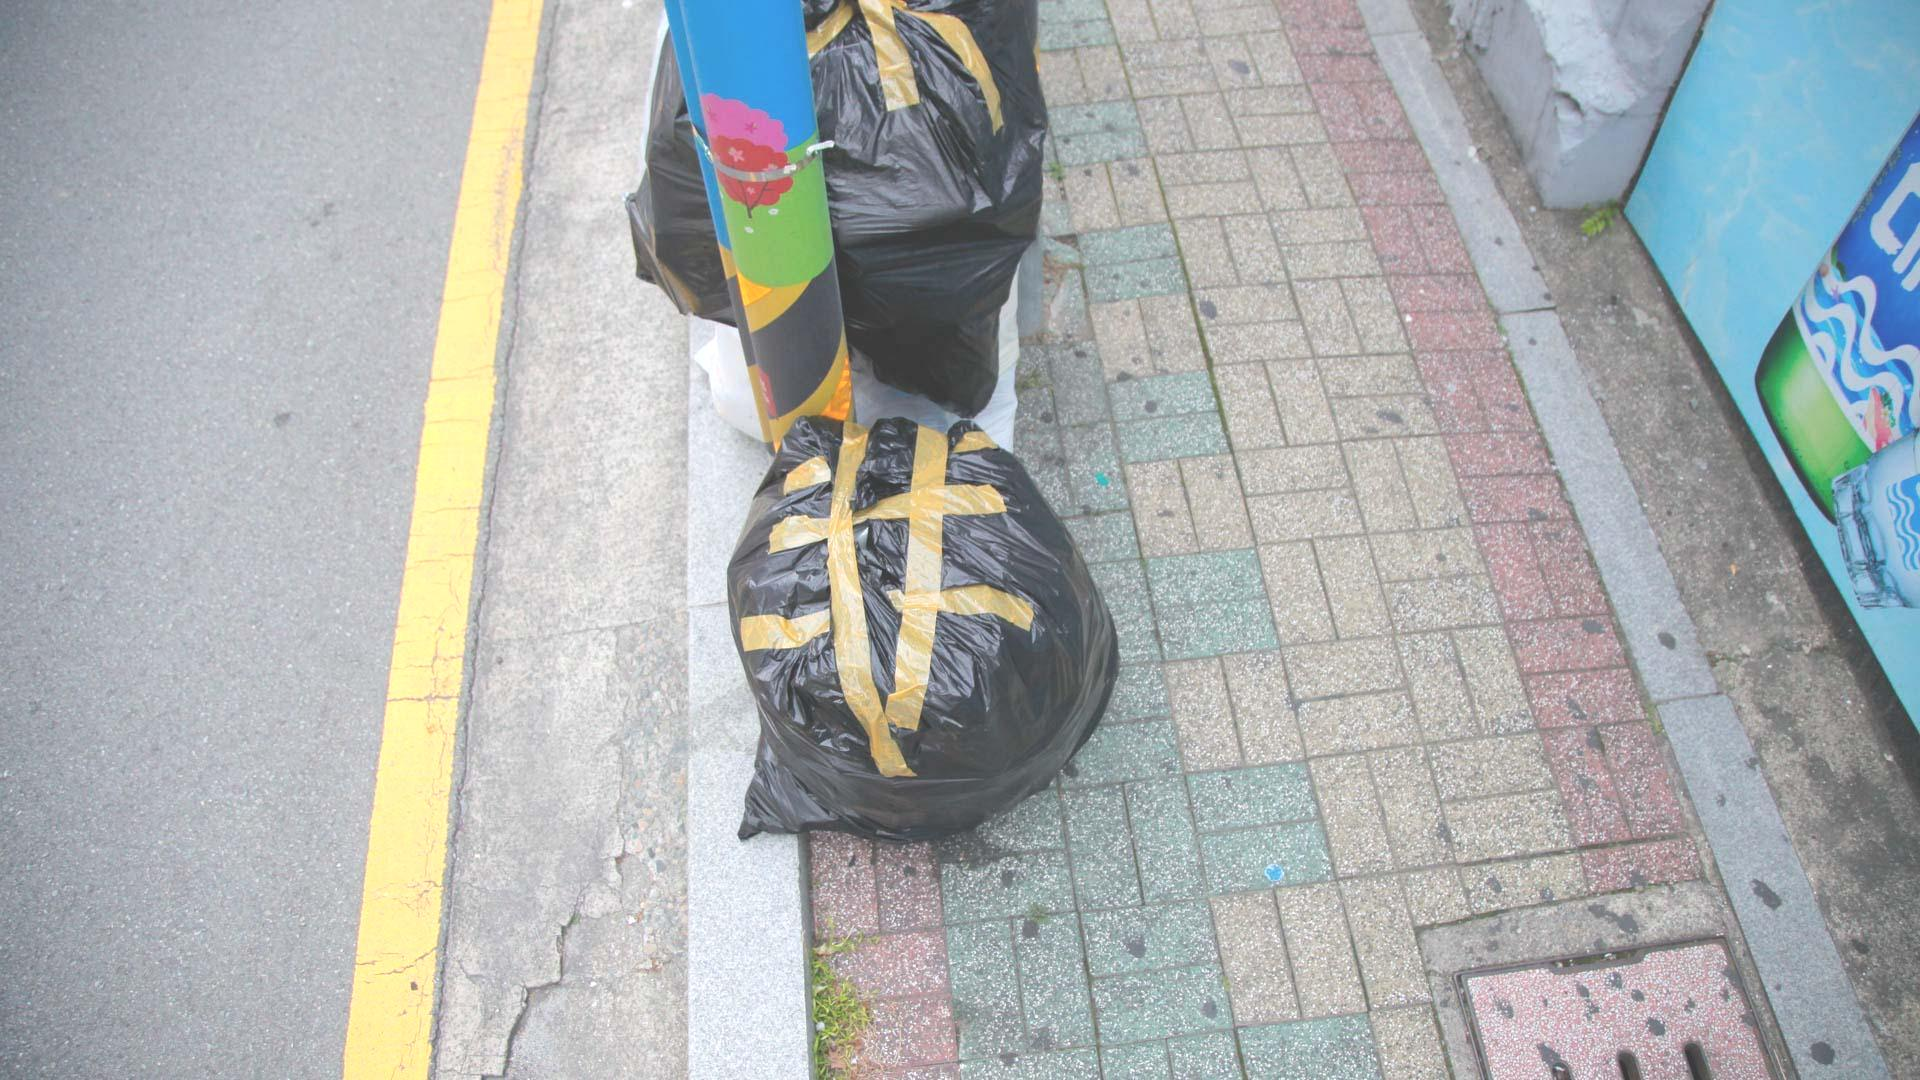black_bag: (705, 396, 1139, 864), (616, 3, 1063, 430)
